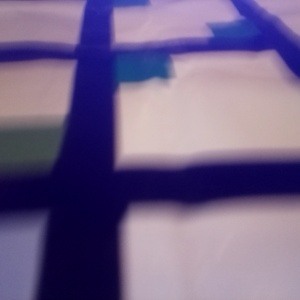bottom_right: (50, 92, 162, 155), (84, 1, 140, 23)
